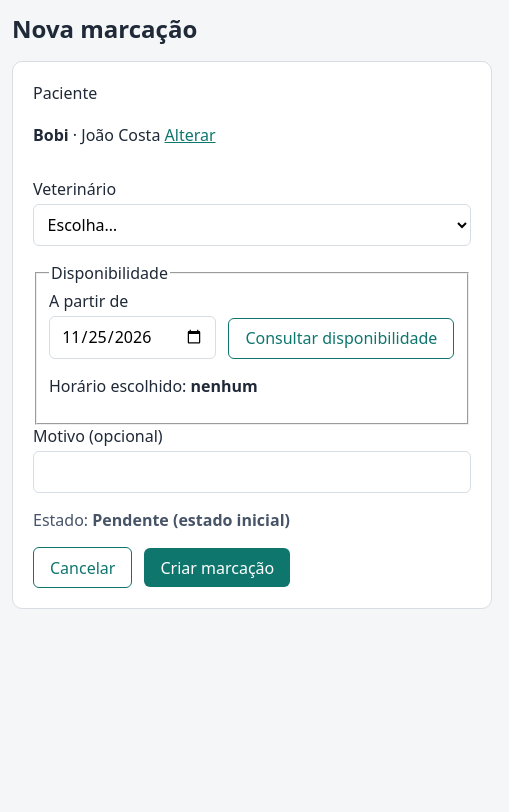
Test: W10 — nova marcação › mudar de Veterinário obriga a escolher de novo o horário (critério 3)
The image size is (509, 812).
Select "Dra. Ana" in the dropdown labelled "Veterinário" at (252, 225), box [33,204,471,246]
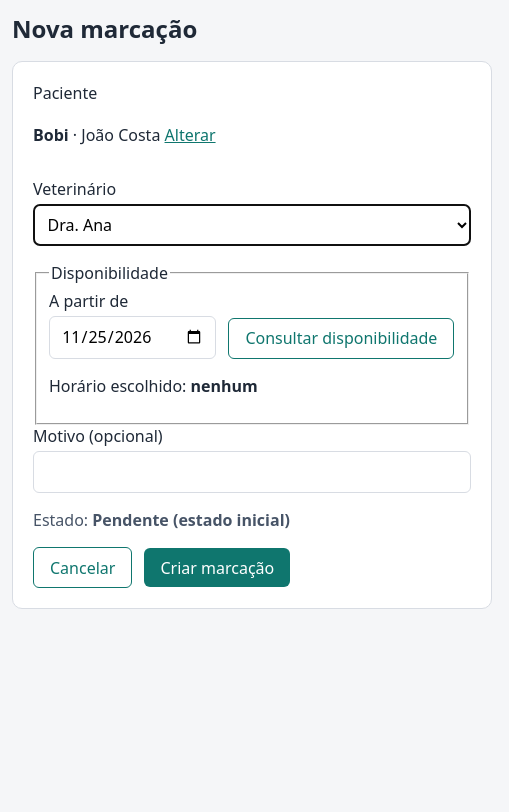
Click the button "Consultar disponibilidade" at (341, 338), box [228,318,454,359]
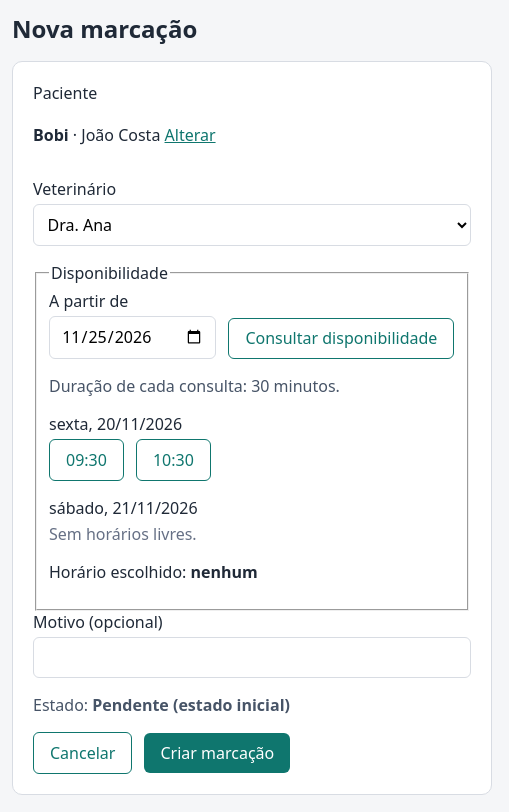
Click the button "10:30" at (173, 460), box [136,439,211,481]
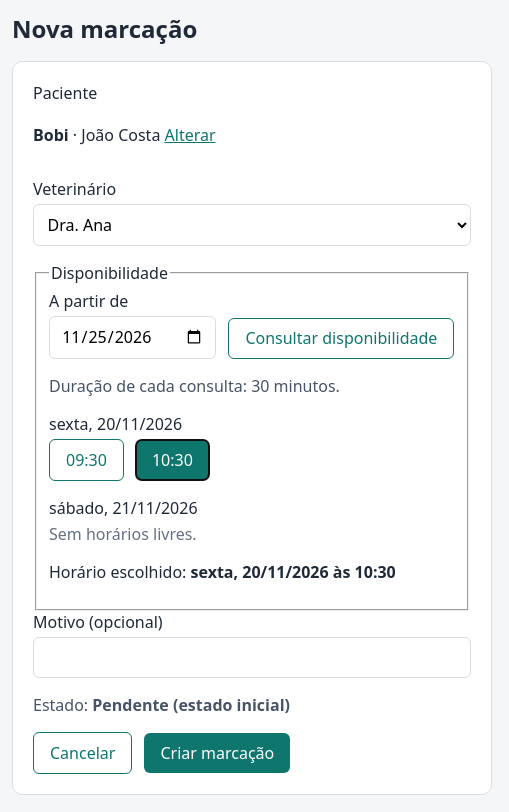
Select "Dr. Paulo" in the dropdown labelled "Veterinário" at (252, 225), box [33,204,471,246]
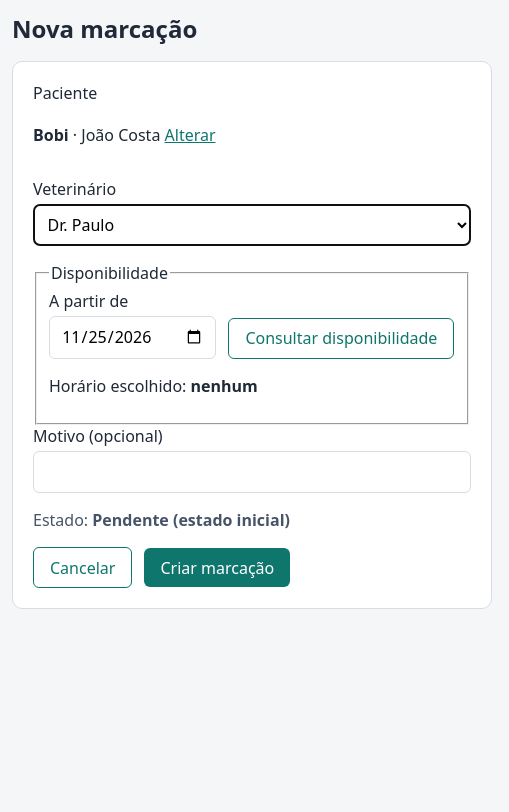
Now the text "horários livres" is gone
Now the text "nenhum" is shown, box [191,375,258,397]
